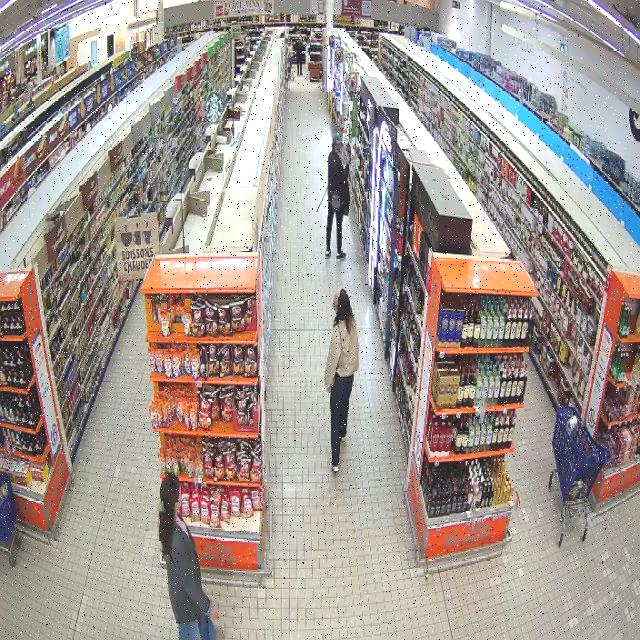bags: (331, 191, 341, 210)
hands: (210, 606, 217, 619)
person: (158, 473, 217, 639), (325, 289, 358, 471), (325, 136, 348, 259)
